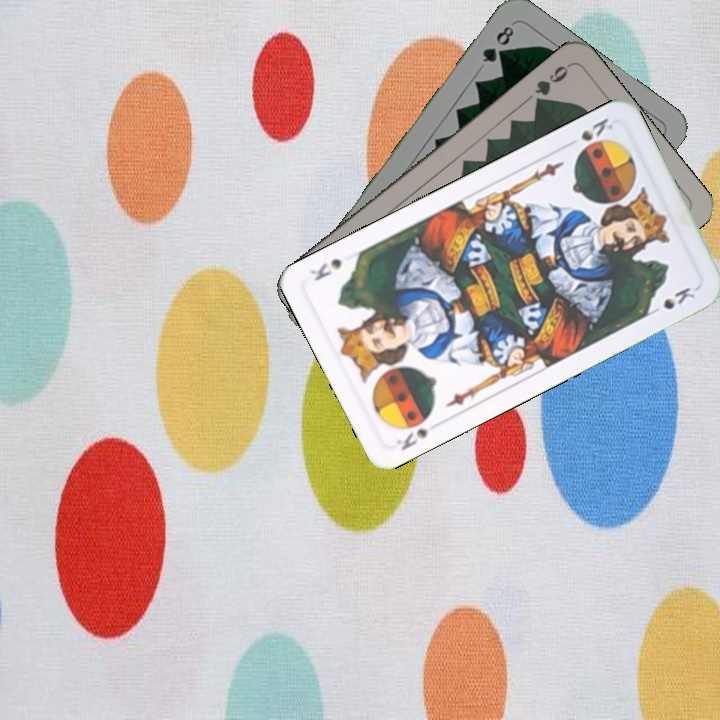G8: (478, 21, 517, 65)
G9: (530, 60, 573, 110)
SK: (571, 113, 616, 157), (389, 424, 432, 453)
